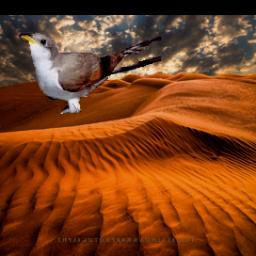Cuckoo: (18, 33, 160, 115)
